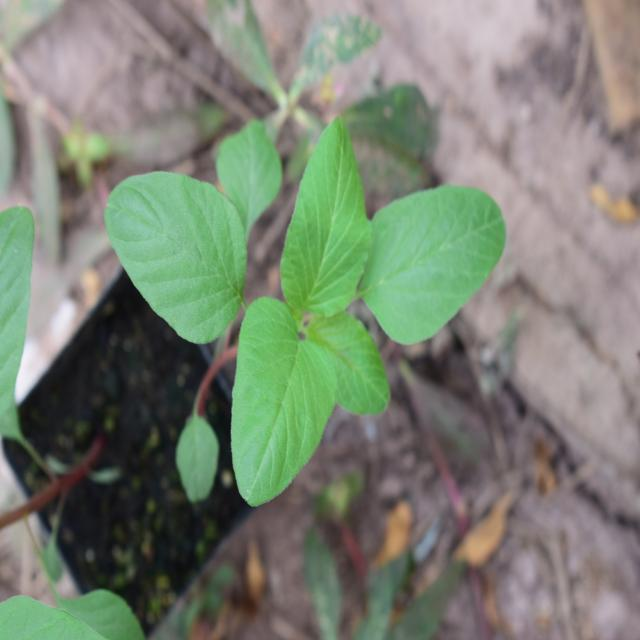pigweed: (84, 118, 494, 540)
